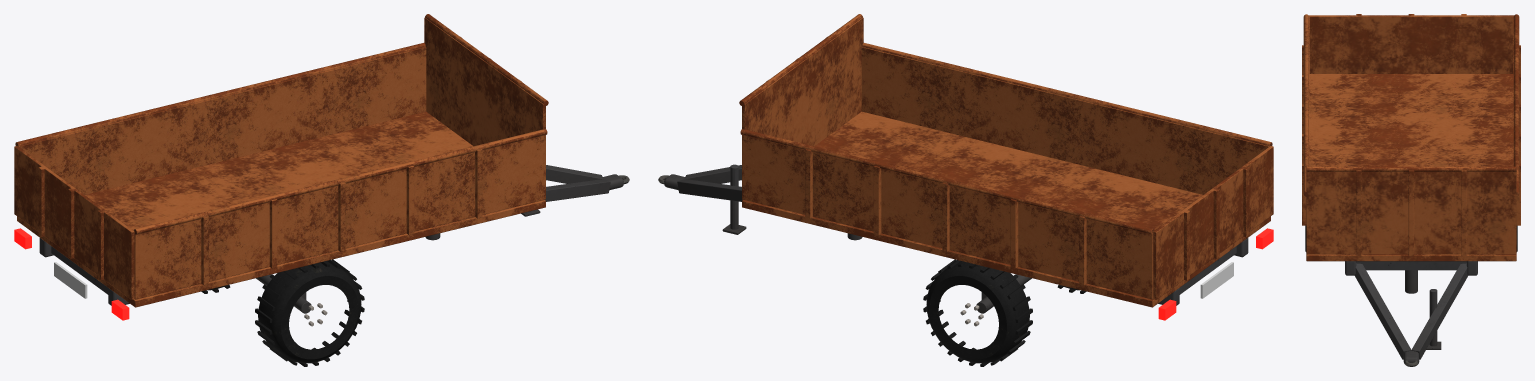
File: trailer_rusty.glb
3 views of the same model, side by side, from view 1: azimuth 30°, elevation 25°; view 2: azimuth 150°, elevation 25°; view 3: azimuth 270°, elevation 25° (orthographic). The views are drawn at different scales.
Parts seen in each view (by area): view 1: Bed, Tailgate, Wheel1_Tyre, Chassis, TailLamps, Plate; view 2: Bed, Tailgate, Wheel0_Tyre, Chassis, TailLamps, Plate; view 3: Bed, Tailgate, Chassis.
Boxes of the visible parts, box(x1,y1,x2,y2) form: Bed: box(15, 14, 548, 307); Tailgate: box(14, 146, 134, 299); Wheel1_Tyre: box(255, 259, 364, 366); Chassis: box(39, 165, 623, 313); TailLamps: box(14, 228, 129, 320); Plate: box(54, 262, 87, 298); Bed: box(739, 14, 1272, 307); Tailgate: box(1153, 146, 1273, 299); Wheel0_Tyre: box(923, 259, 1032, 366); Chassis: box(664, 164, 1248, 313); TailLamps: box(1158, 228, 1273, 320); Plate: box(1200, 262, 1233, 298); Bed: box(1302, 14, 1520, 261); Tailgate: box(1309, 14, 1513, 73); Chassis: box(1345, 261, 1477, 364).
Bounding box in the file's own units: 5.18 × 1.86 × 1.98.
7 materials, 5 textured.
